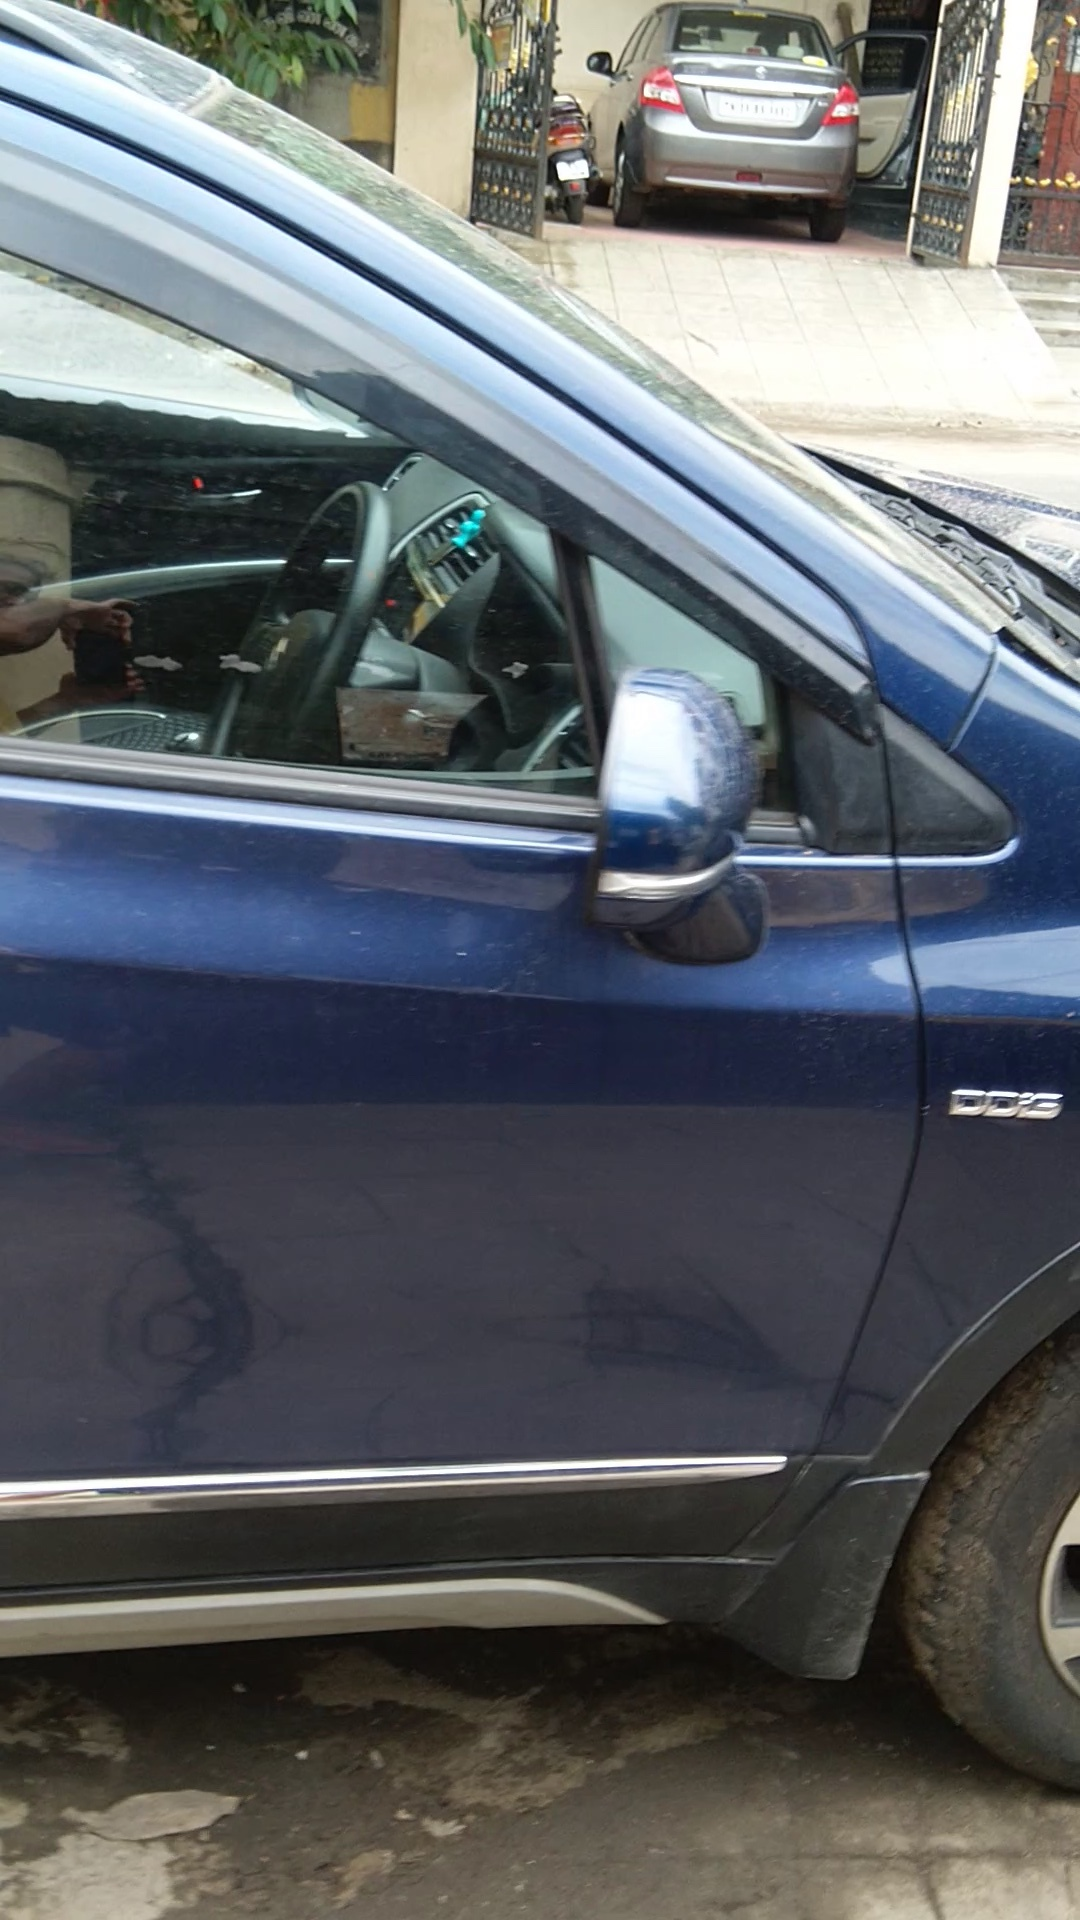ovr_mirror: (531, 636, 814, 1021)
